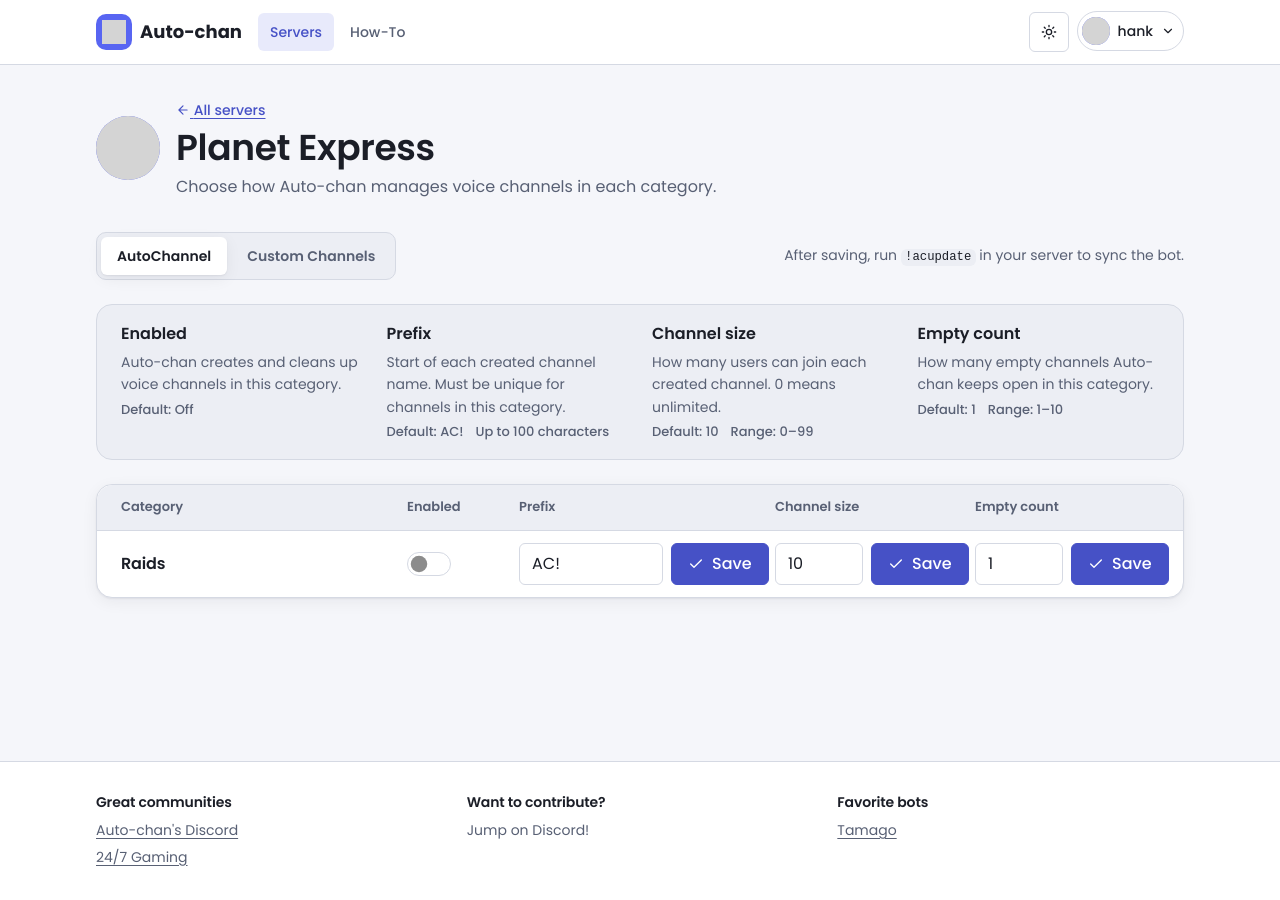
Test: App › switches to the custom channel settings tab
The image size is (1280, 900).
Click the tab "Custom Channels" at (311, 256), box [231,237,391,275]
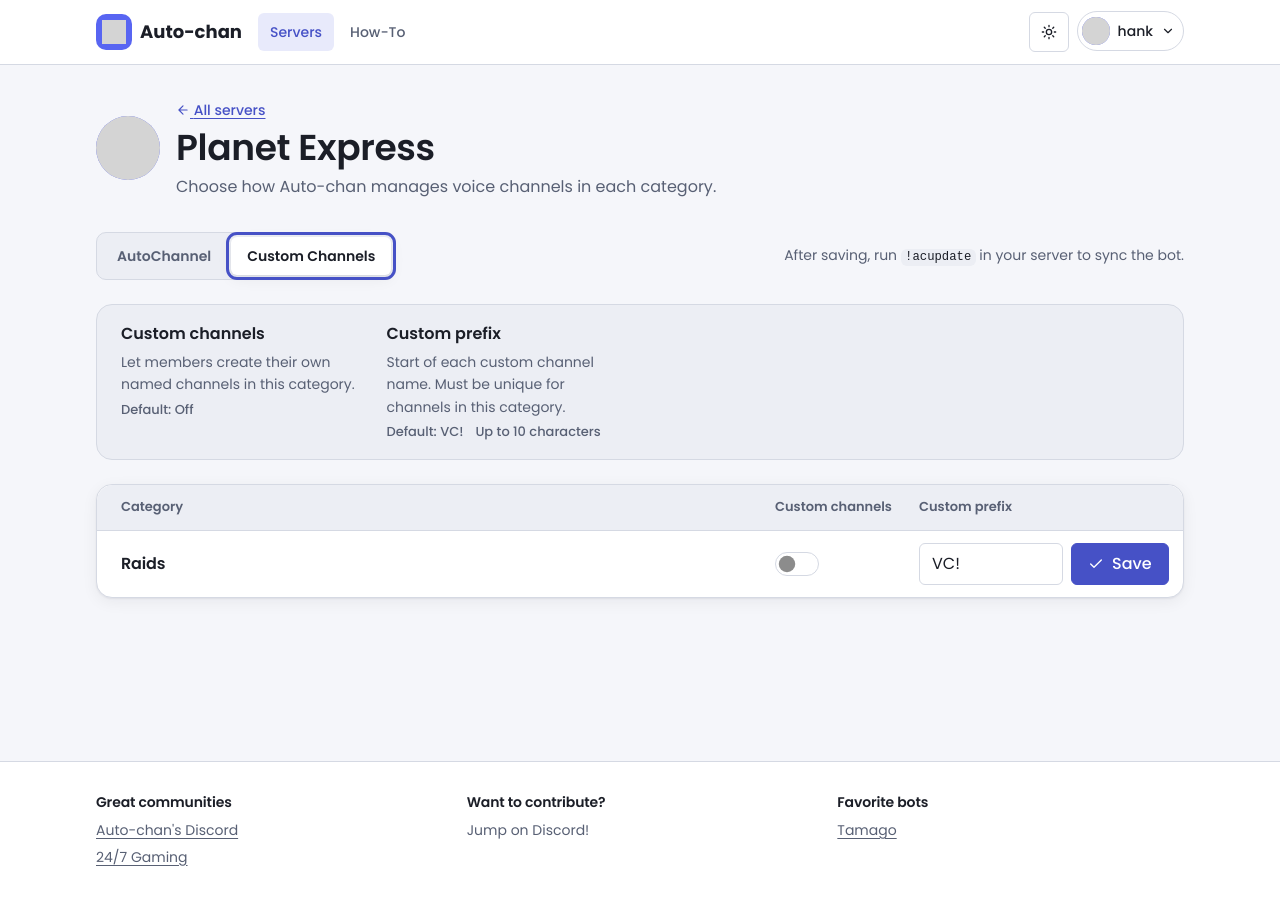
Expected: the field named "Raids custom prefix" holds "VC!", [919,543,1063,585]
